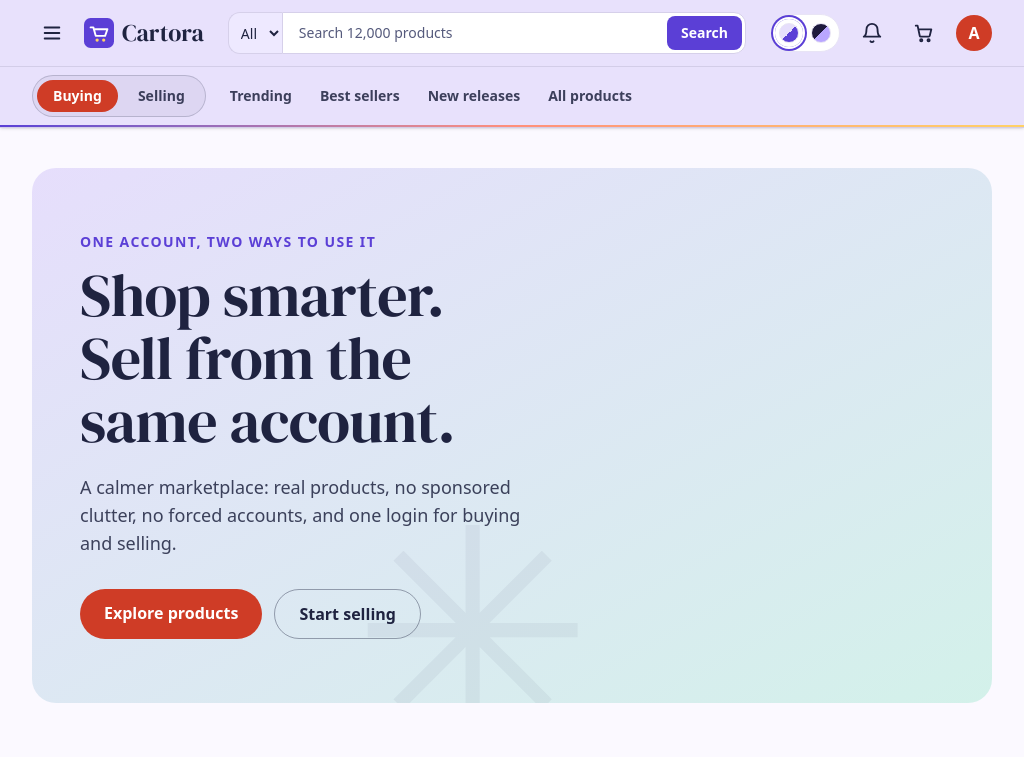
account menu › lists every item, on its own readable text colour (the header text is light, the menu is not)
This screenshot has width=1024, height=757.
Click the button named "Account menu for": (974, 33) [956,15,992,51]
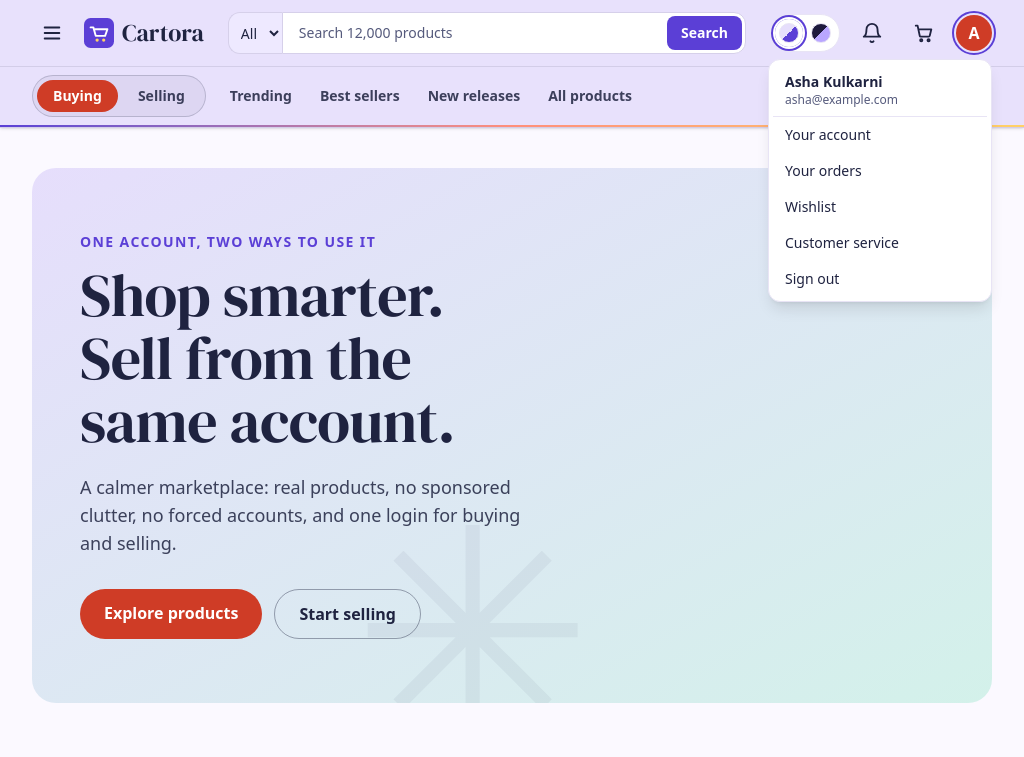
Expected: the menu item "Your account" is shown, [785,125,871,144]
Expected: the menu item "Your orders" is shown, [785,161,862,180]
Expected: the menu item "Wishlist" is shown, [785,197,836,216]
